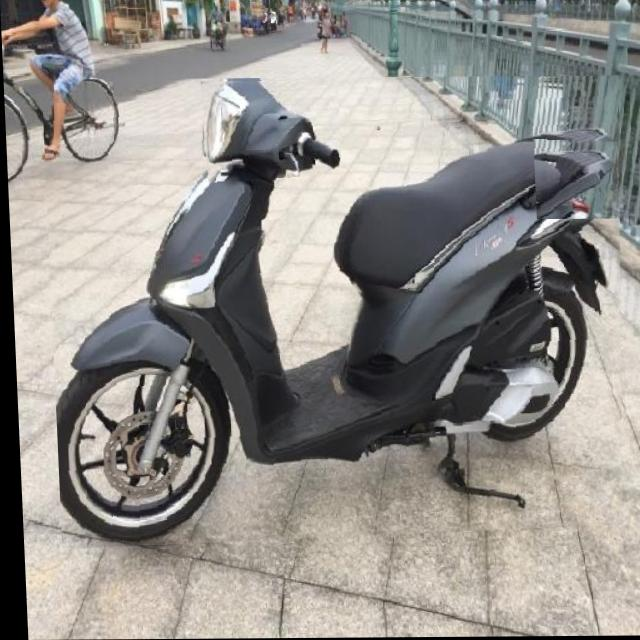All: (41, 76, 635, 550)
Head: (200, 81, 340, 183)
Tail: (532, 139, 619, 220)
